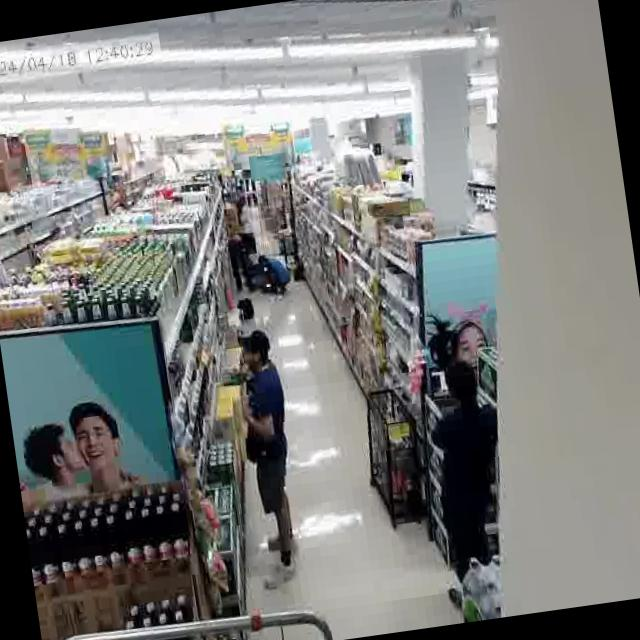shoplifting: (214, 318, 328, 602)
